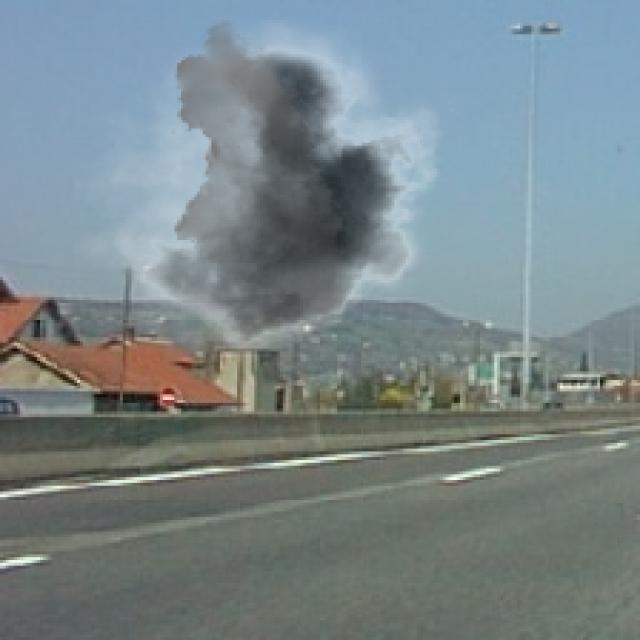smoke: (71, 20, 460, 371)
